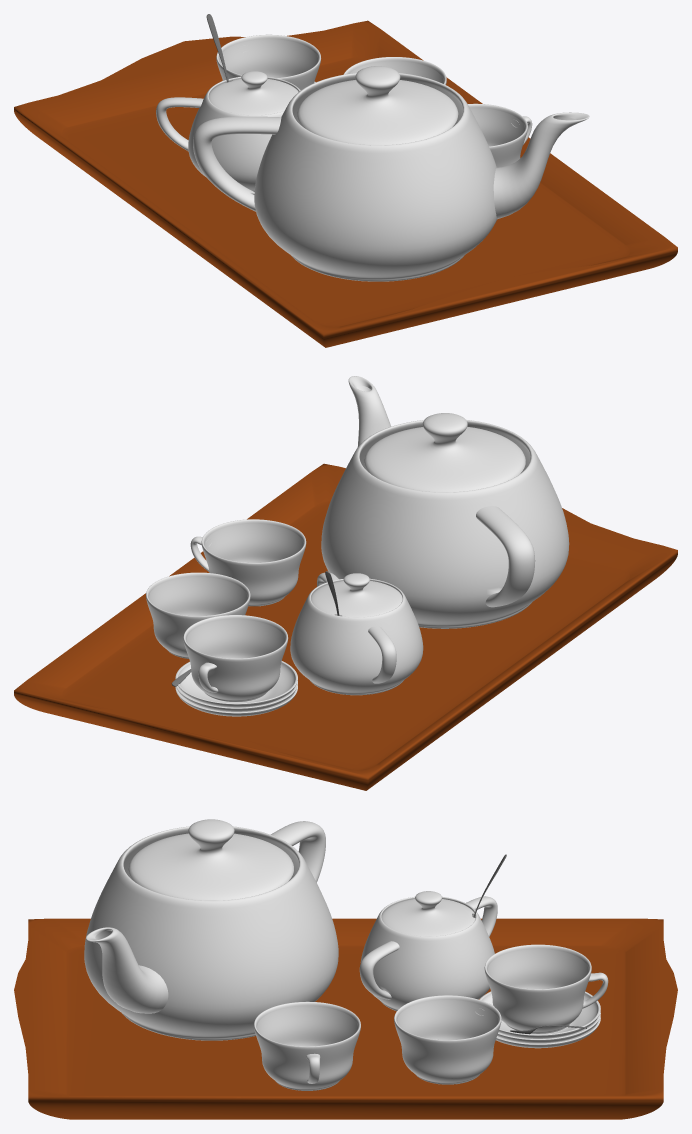
The model's file is bandeja_te.glb.
The picture shows the model from 3 angles, top to bottom: view 1: azimuth 30°, elevation 25°; view 2: azimuth 150°, elevation 25°; view 3: azimuth 270°, elevation 25°; orthographic projection. The views are drawn at different scales.
Parts seen in each view (by area): view 1: Cube, Teapot.002, Teapot, Teapot.003, Teapot.006, Teapot.005; view 2: Cube, Teapot.002, Teapot, Teapot.003, Teapot.006, Teapot.005, Sphere.002, Sphere, Sphere.001; view 3: Cube, Teapot.002, Teapot, Teapot.003, Teapot.005, Teapot.006, Sphere.002, Sphere, Sphere.001.
Boxes of the visible parts, bbox=[...] form: Cube: bbox=[14, 20, 677, 347]; Teapot.002: bbox=[193, 66, 589, 281]; Teapot: bbox=[156, 71, 300, 191]; Teapot.003: bbox=[216, 34, 321, 90]; Teapot.006: bbox=[468, 103, 532, 167]; Teapot.005: bbox=[343, 57, 446, 84]; Cube: bbox=[14, 463, 677, 790]; Teapot.002: bbox=[321, 376, 569, 628]; Teapot: bbox=[290, 572, 423, 695]; Teapot.003: bbox=[183, 615, 288, 701]; Teapot.006: bbox=[190, 519, 306, 606]; Teapot.005: bbox=[146, 572, 250, 658]; Sphere.002: bbox=[175, 661, 297, 707]; Sphere: bbox=[175, 685, 297, 716]; Sphere.001: bbox=[176, 681, 297, 711]; Cube: bbox=[14, 918, 677, 1119]; Teapot.002: bbox=[84, 819, 338, 1040]; Teapot: bbox=[359, 891, 497, 1011]; Teapot.003: bbox=[484, 944, 608, 1033]; Teapot.005: bbox=[394, 995, 501, 1084]; Teapot.006: bbox=[254, 1001, 360, 1090]; Sphere.002: bbox=[479, 991, 600, 1038]; Sphere: bbox=[496, 1016, 600, 1048]; Sphere.001: bbox=[497, 1012, 600, 1043].
Bounding box in the file's own units: 661 × 349 × 1047.
